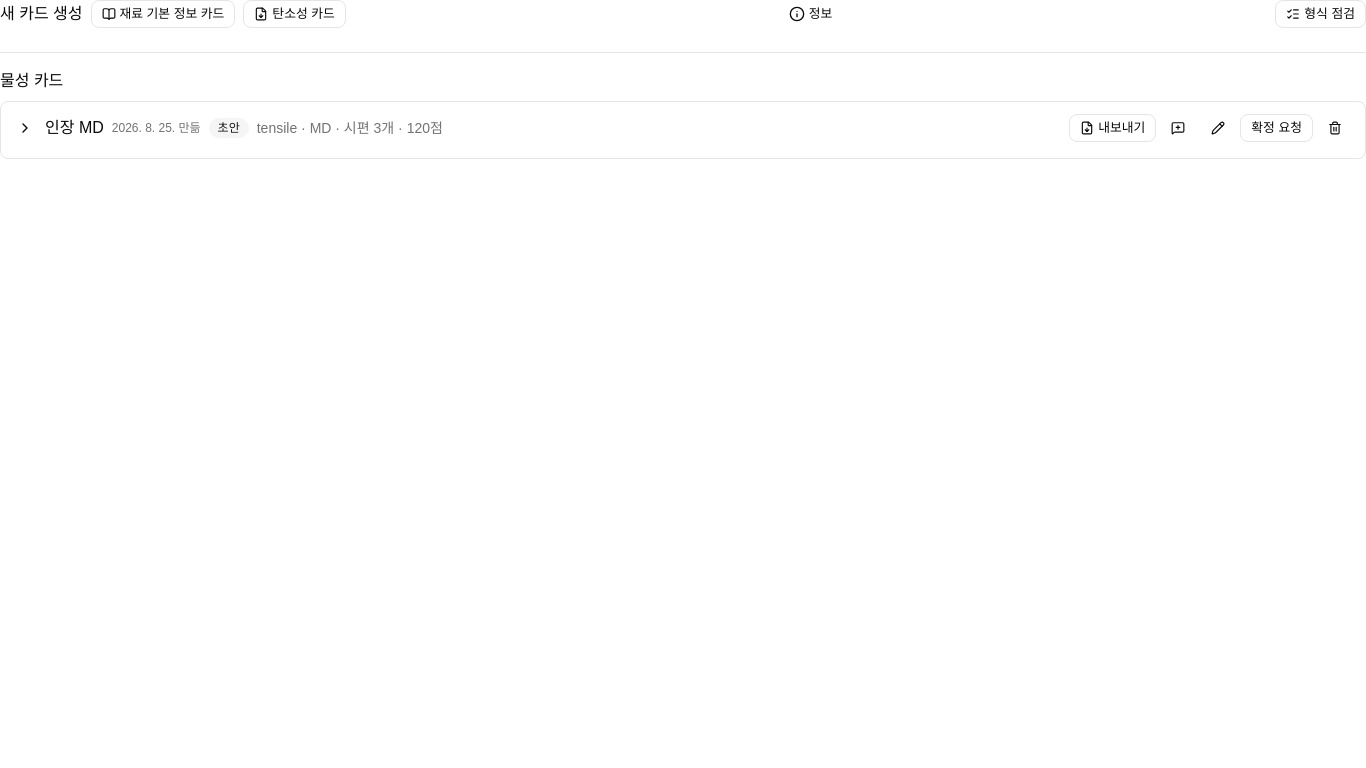
확정 요청 › 받을 사람이 없으면 그렇다고 말한다
Click the button "확정 요청". click: (1277, 128)
box: [1240,114,1313,142]
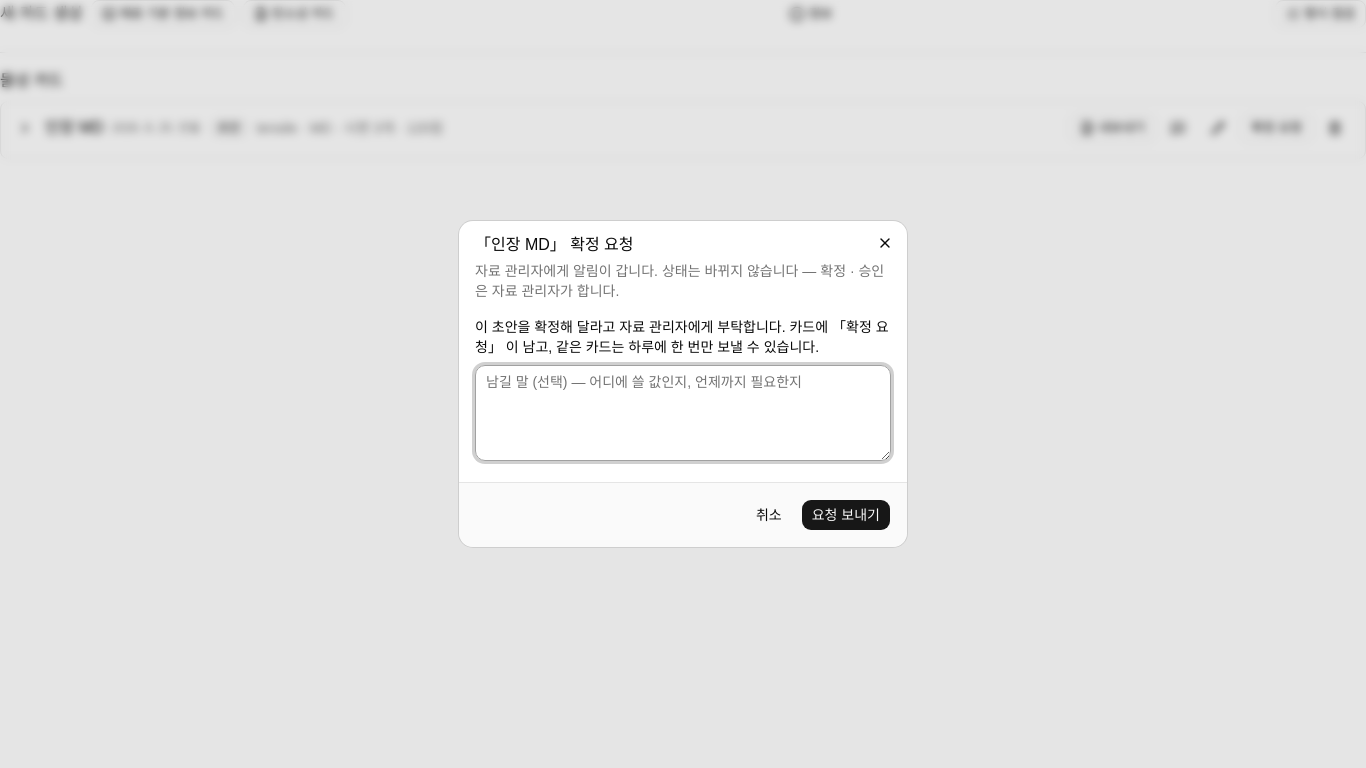
Click the button "요청 보내기". click: (846, 515)
box: [801,499,891,531]
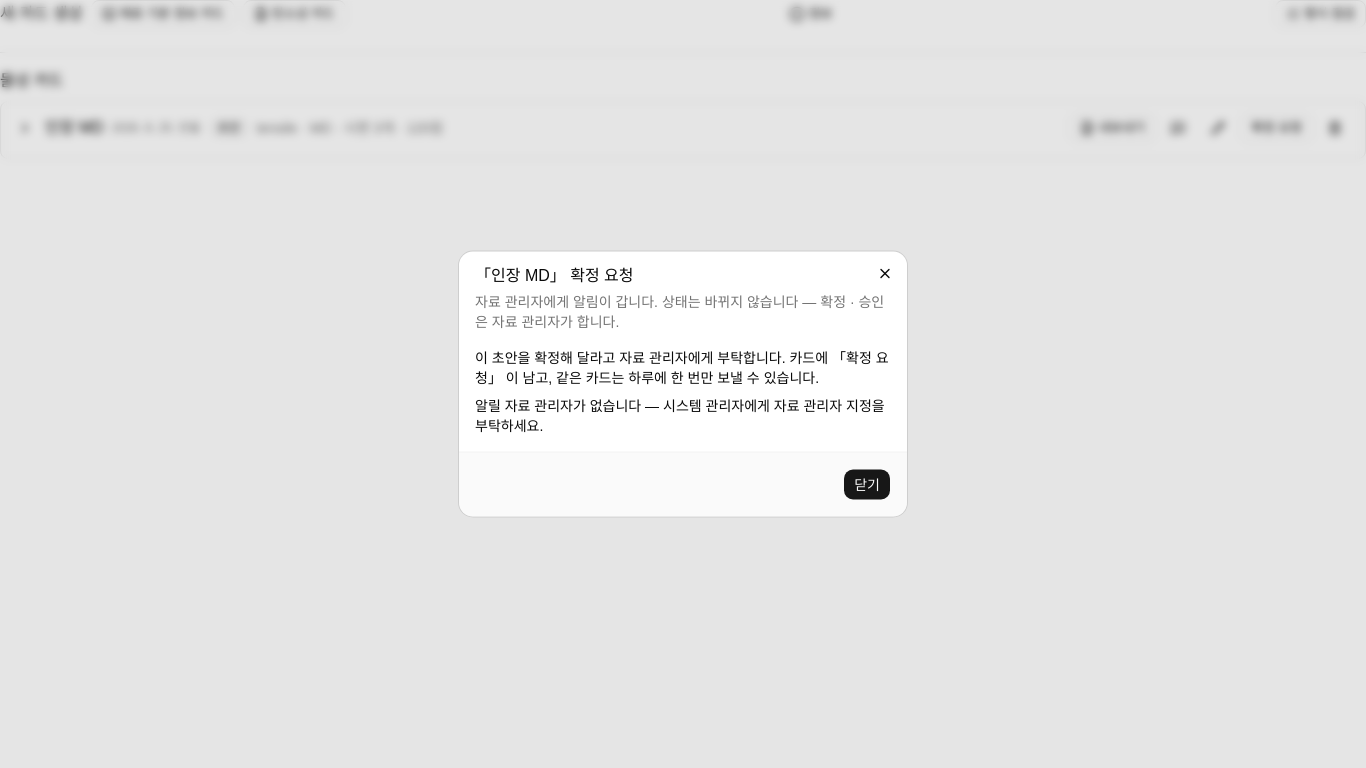
expect the text "알릴 자료 관리자가 없습니다 — 시스템 관리자에게 자료 관리자 지정을 부탁하세요." is shown: met, box [475,396,891,436]
